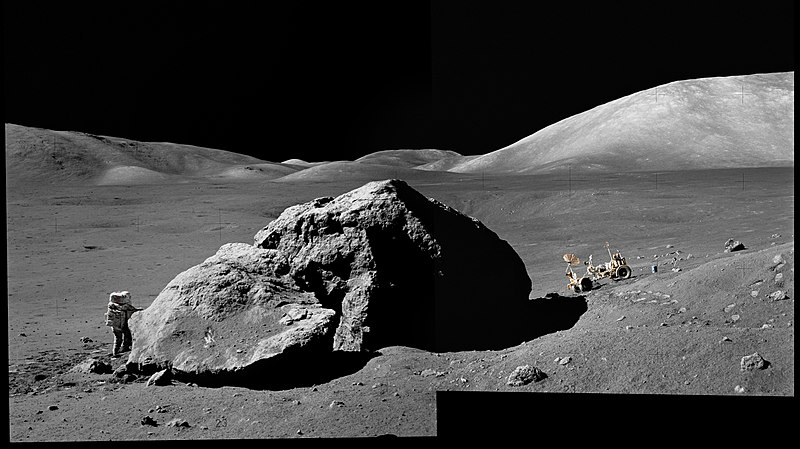boulder: (125, 175, 532, 373)
